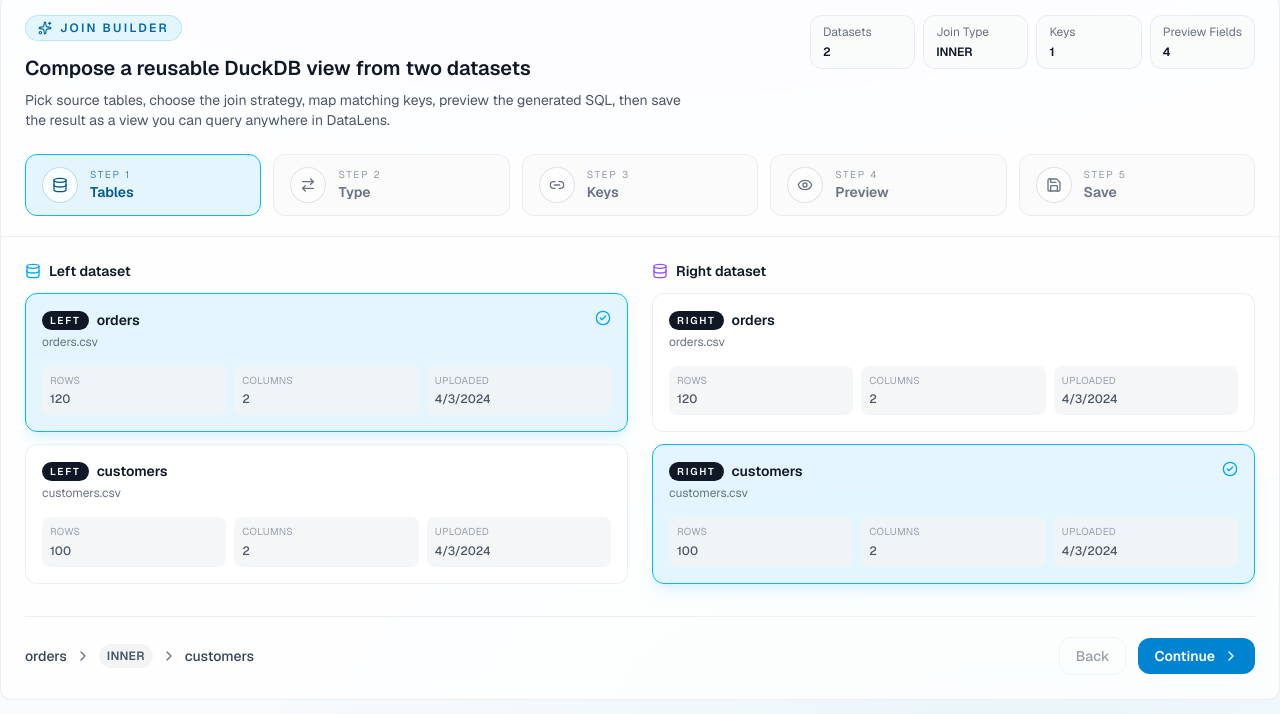
Test: JoinBuilder › surfaces preview failures
Click the button "Continue" at (1197, 656), box left=1138, top=638, right=1255, bottom=674
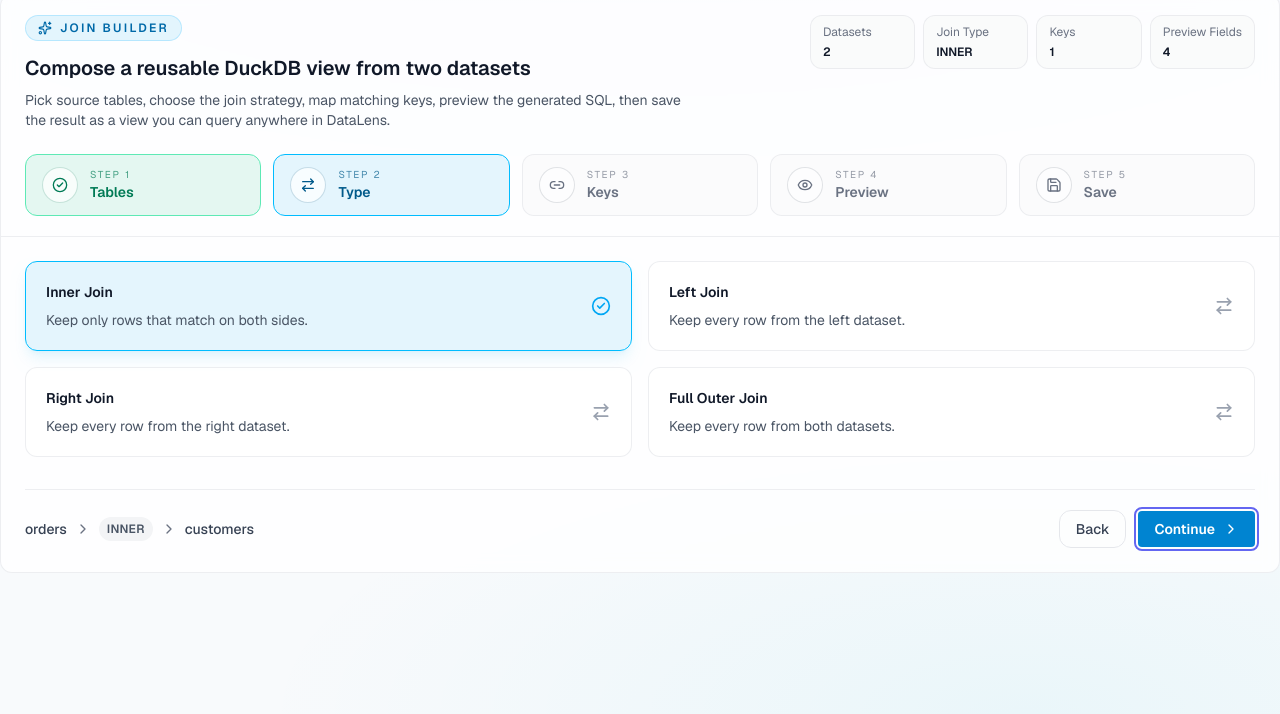
Click the button "Left Join Keep every row from the left dataset." at (699, 292), box left=648, top=261, right=1255, bottom=351
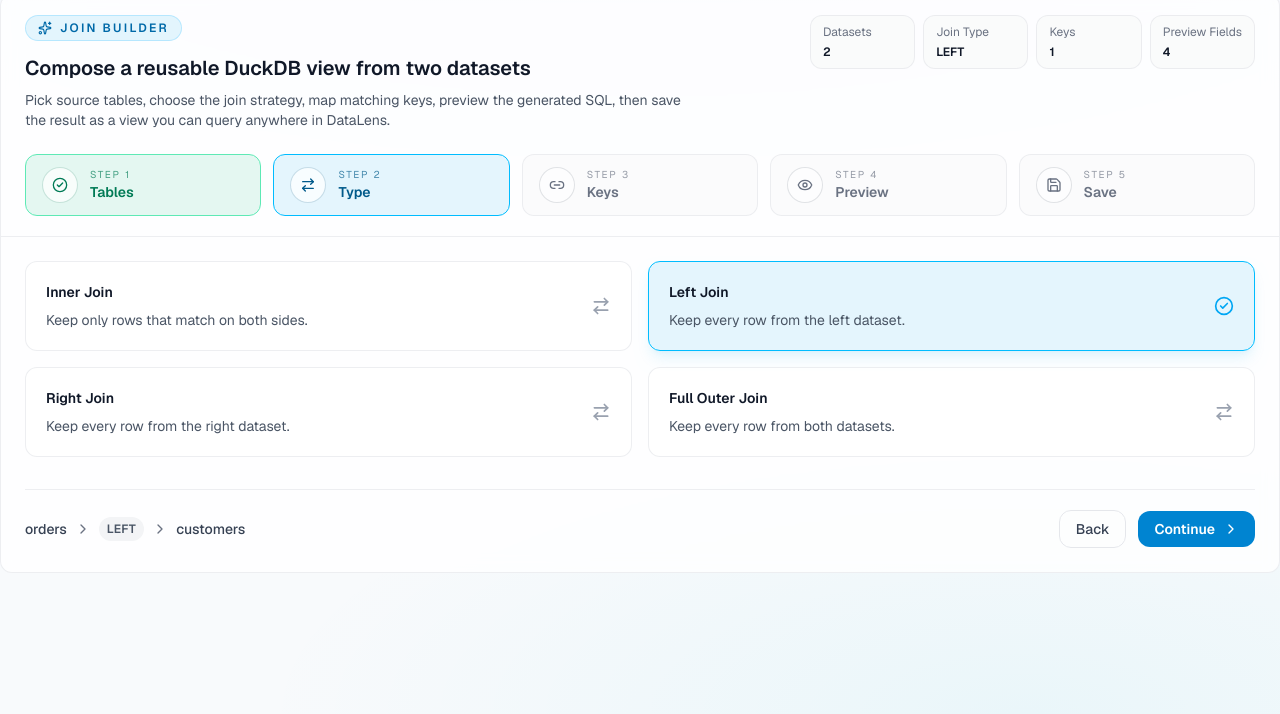
Click the button "Continue" at (1197, 529), box left=1138, top=511, right=1255, bottom=547
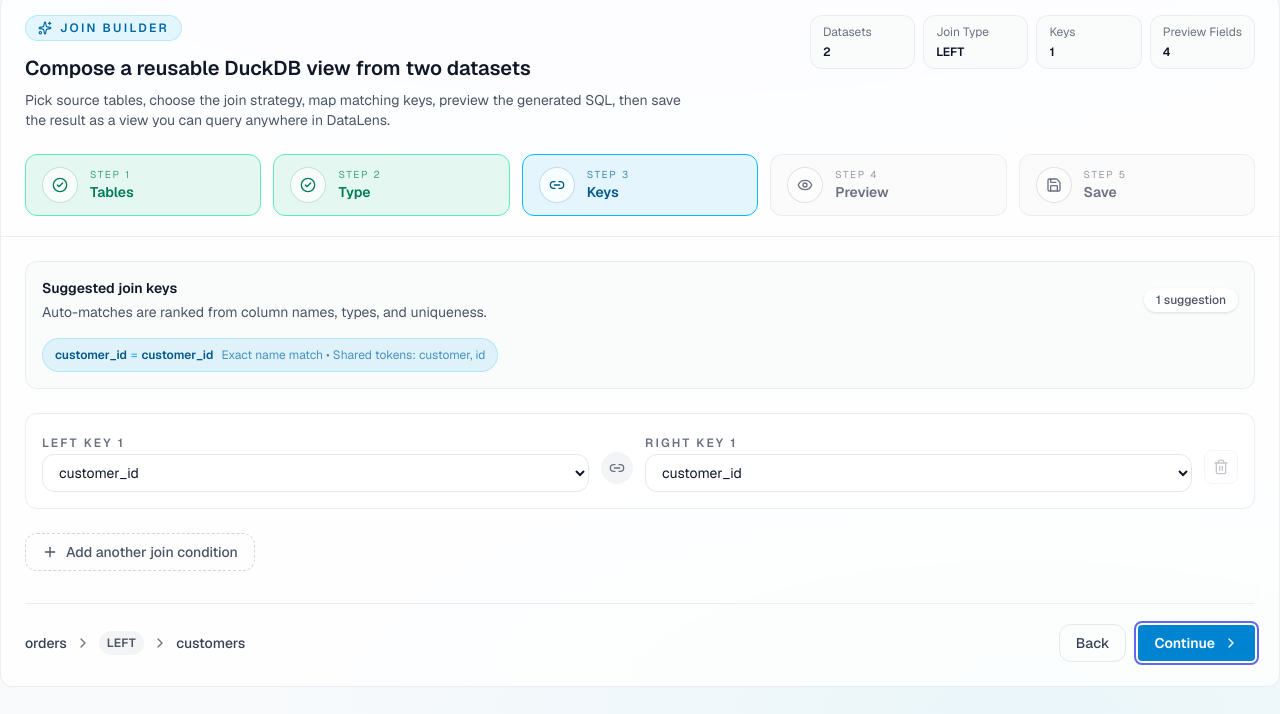
Click the button "Continue" at (1197, 643), box left=1138, top=625, right=1255, bottom=661
(page scrolled)
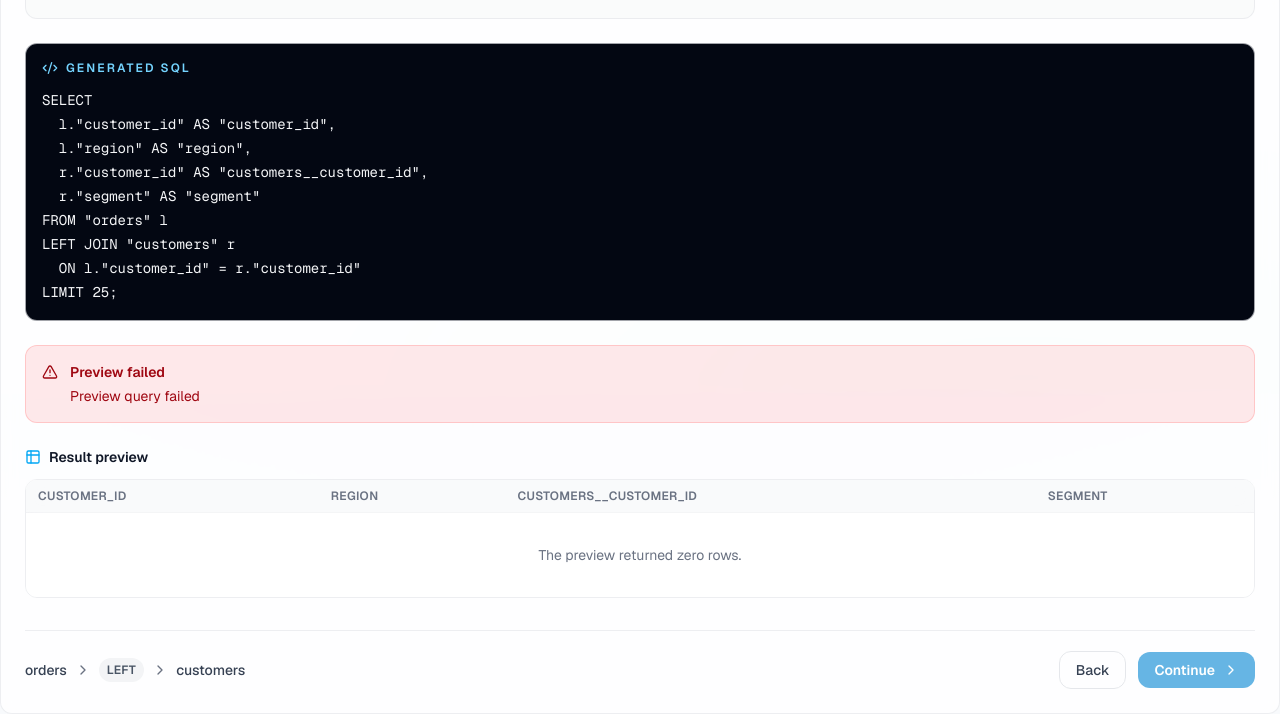
Result: the text "Preview failed" is shown at left=70, top=363, right=165, bottom=381
Result: the text "Preview query failed" is shown at left=70, top=386, right=200, bottom=406
